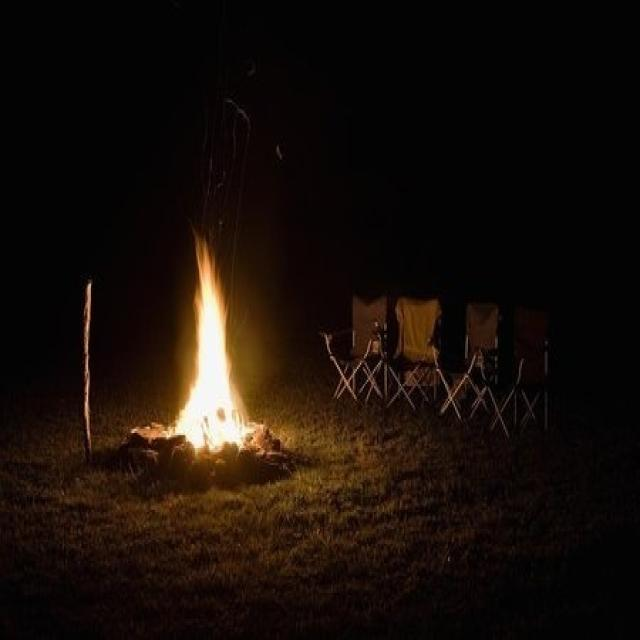Fire: (162, 230, 265, 454)
